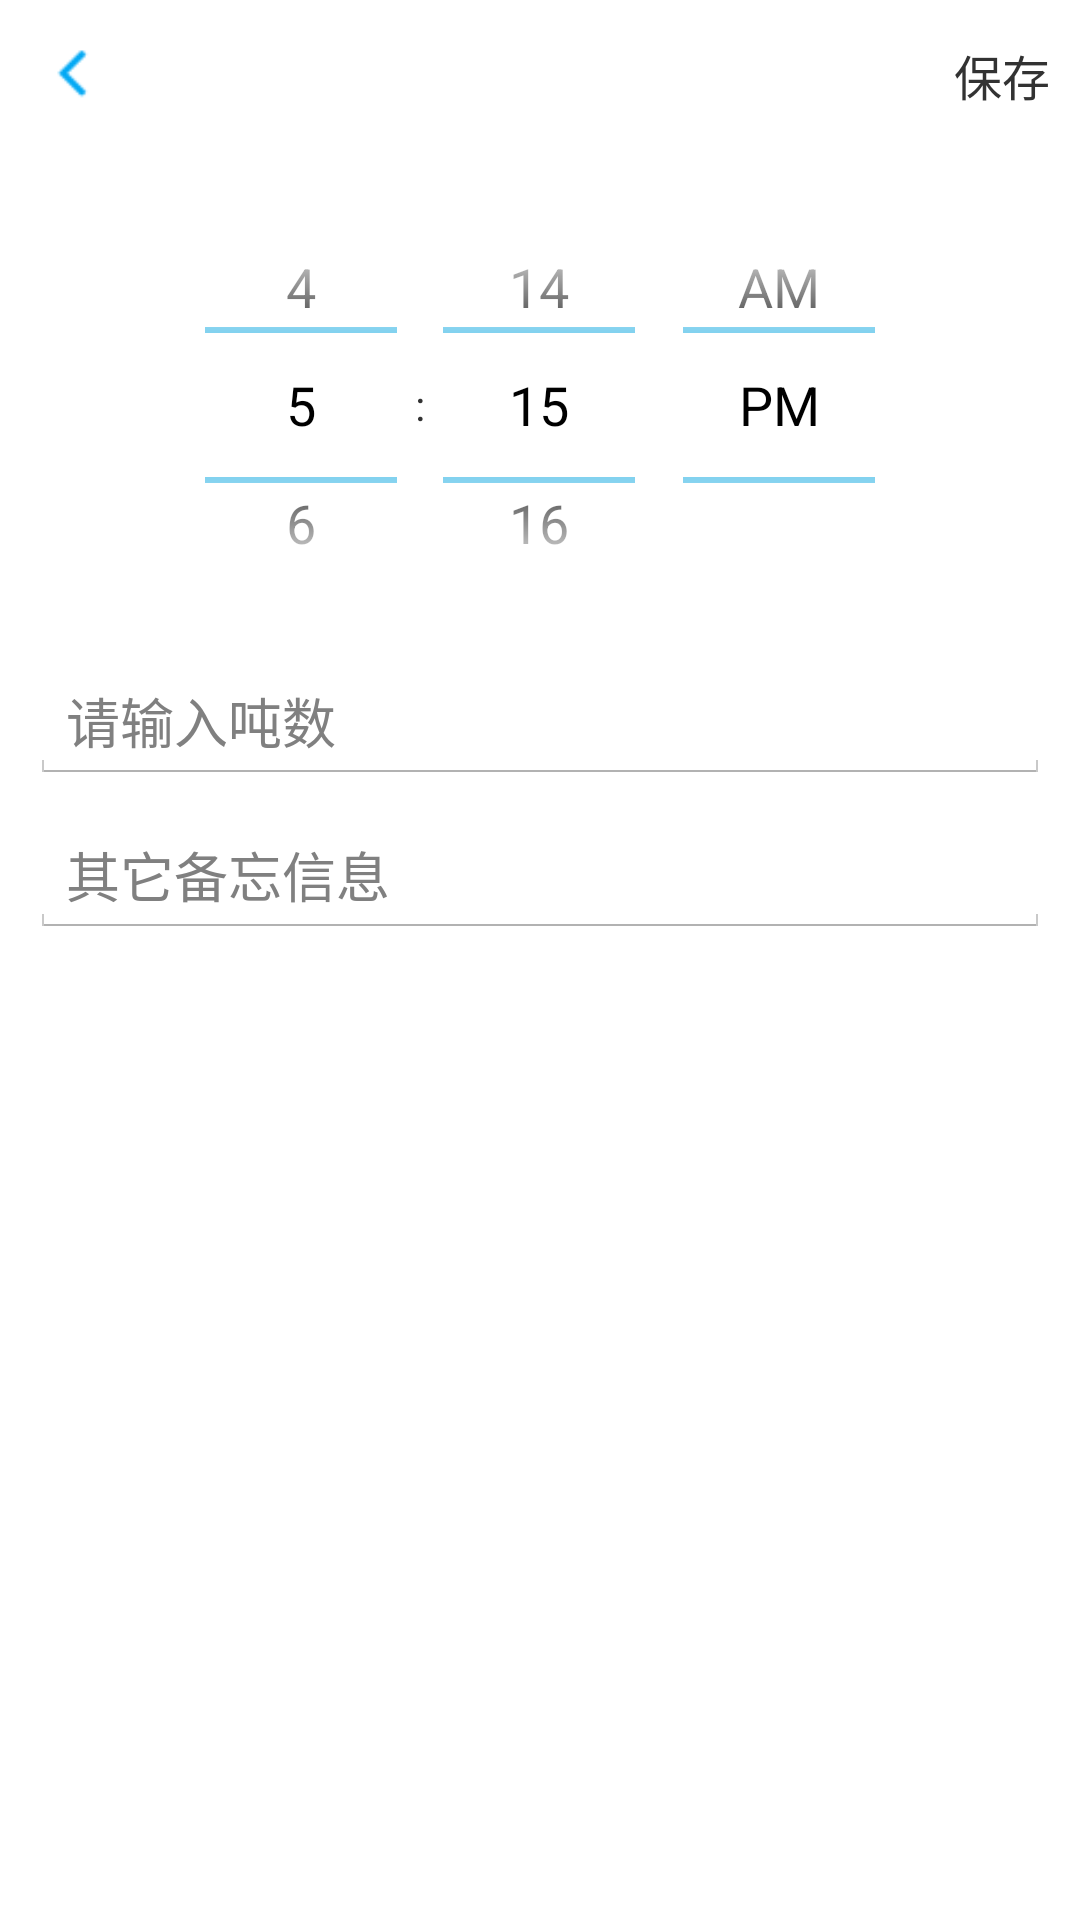

Where icons sit on this 1080px x 1920px app screen, as (x1, y1, x2, y2):
navigationbar back: (57, 50, 87, 97)
